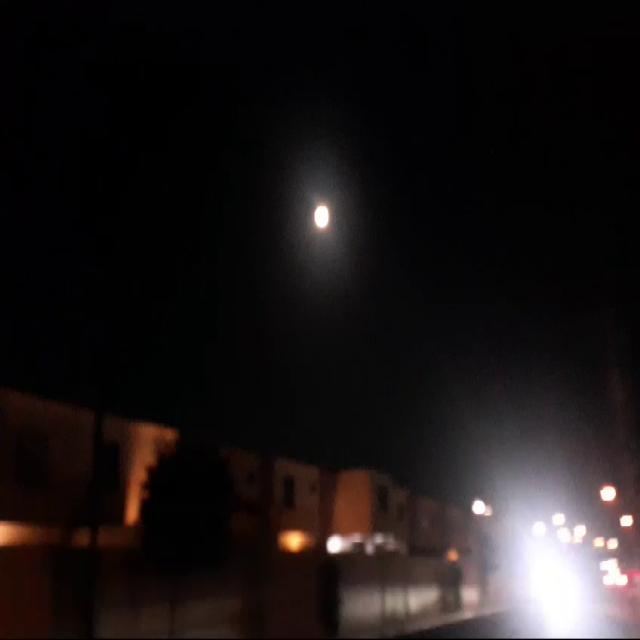moon: (313, 202, 332, 236)
